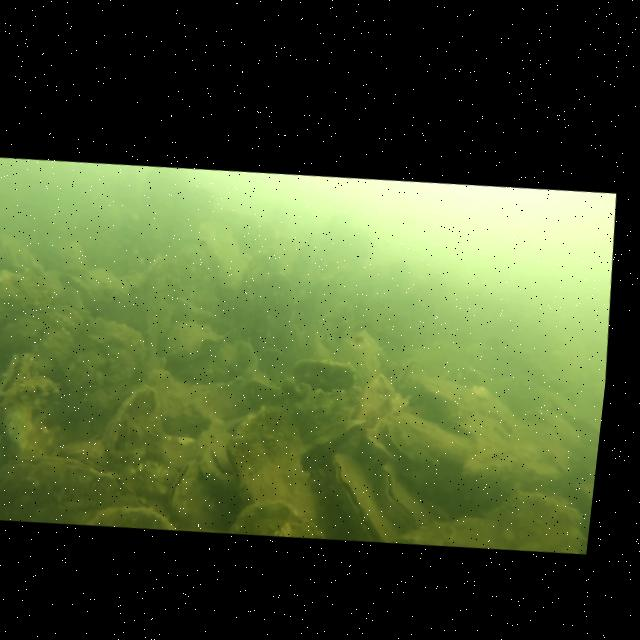Oyster-Closed: (214, 398, 335, 544), (0, 445, 155, 537), (128, 252, 191, 355), (368, 455, 443, 538), (93, 381, 163, 468), (162, 453, 227, 536), (196, 431, 243, 490), (83, 263, 135, 313)
Oyster-Indeterminate: (403, 475, 590, 563), (55, 312, 152, 437), (0, 263, 77, 381), (0, 419, 14, 524)
Oyster-Open: (360, 407, 473, 492), (0, 346, 66, 464), (322, 450, 402, 547), (278, 352, 368, 434), (158, 315, 225, 371), (52, 268, 103, 323), (391, 356, 429, 410), (0, 383, 0, 426)
